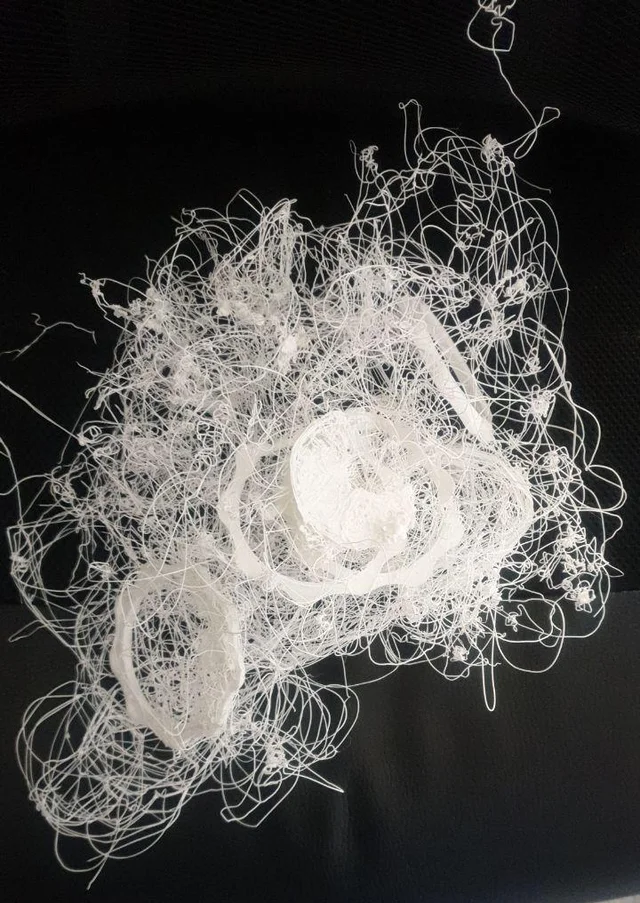Spaghetti: (1, 0, 628, 888)
